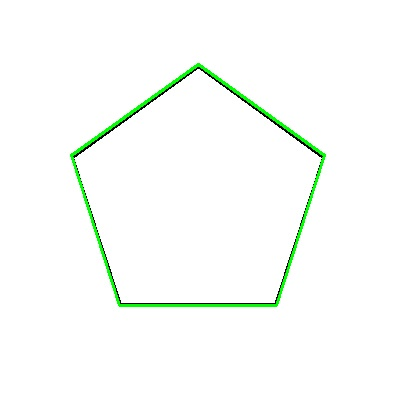line_segment: (70, 64, 326, 306)
